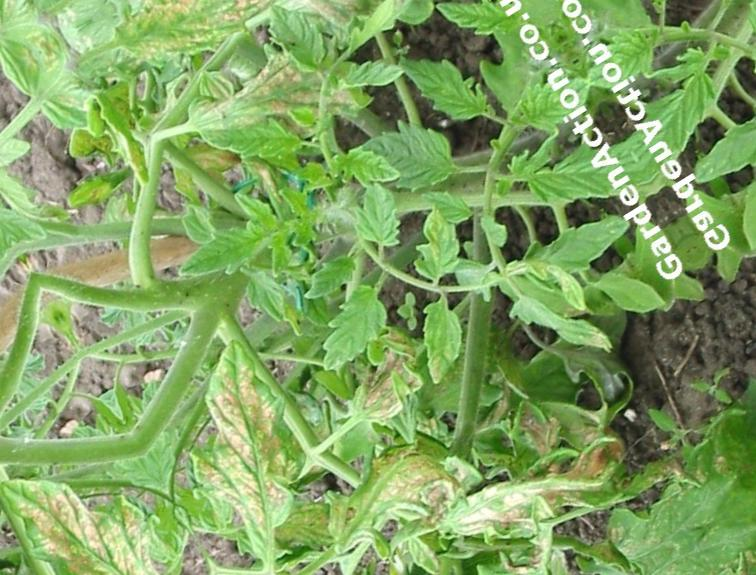Tomato leaf mosaic virus: (345, 101, 467, 216), (201, 85, 320, 197), (501, 269, 615, 385), (399, 28, 502, 143), (165, 204, 284, 297), (520, 201, 633, 294), (296, 278, 402, 376), (396, 293, 485, 385), (259, 0, 340, 91), (399, 201, 482, 286), (343, 176, 417, 254), (433, 0, 521, 62), (376, 574, 483, 575)
